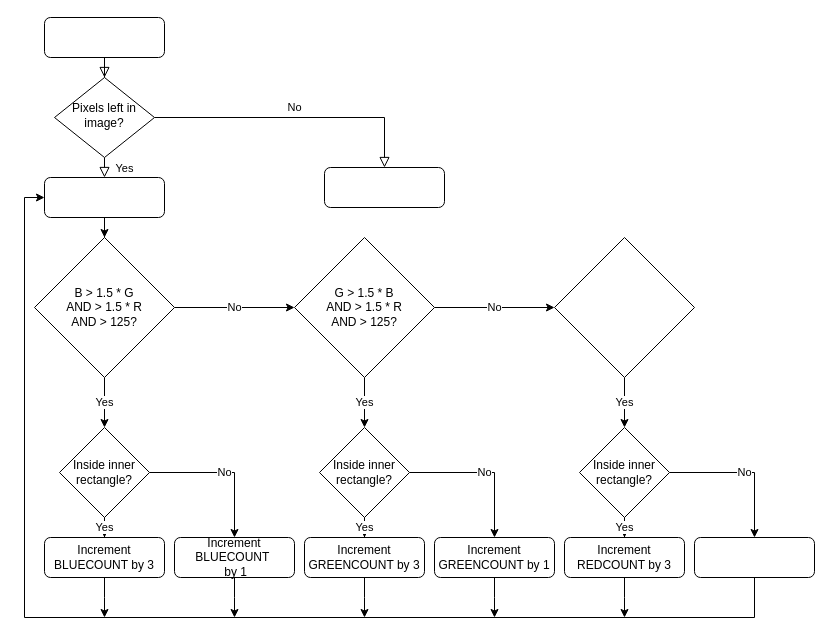
This 832x643 diagram has some shape labels left out. The centre of each missing label's shape, as x and y in pixels:
"Display highest colour count" belongs at (x=384, y=187).
"Get pixel RGB values" belongs at (x=104, y=197).
"Increment REDCOUNT by 1" belongs at (x=754, y=557).
"Load Image" belongs at (x=104, y=37).
"R > 1.5 * B AND > 1.5 * G AND > 125?" belongs at (x=624, y=307).
